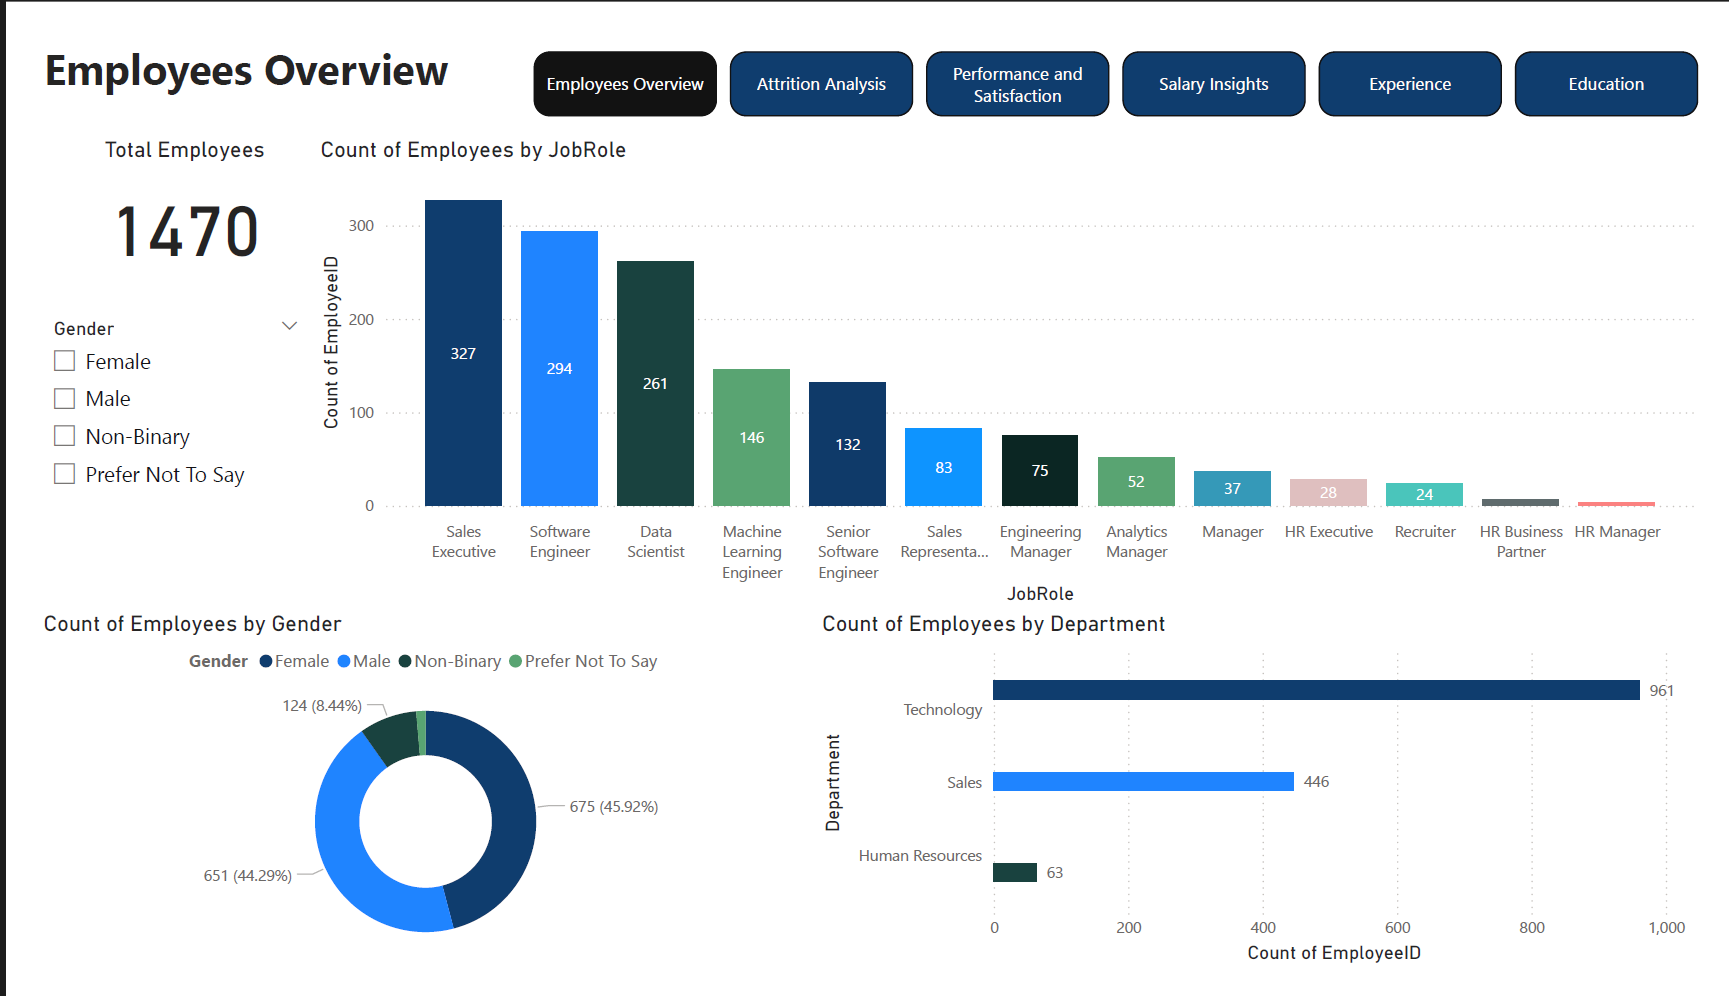

This screenshot's page, from the dashboard's own definition file:
{"tool":"powerbi","page":{"name":"Employees Overview","canvas":[1280,720],"ordinal":0},"visuals":[{"type":"textbox","box":[0,0,1280.3,78.9],"z":0},{"type":"pageNavigator","box":[381.7,14.1,898.6,50.7],"z":1000},{"type":"card","title":"Total Employees","fields":{"Values":["Count(Employee.EmployeeID)"]},"box":[0,78.9,226.8,114.1],"z":2000},{"type":"donutChart","title":"Count of Employees by Gender","fields":{"Y":["CountNonNull(Employee.EmployeeID)"],"Category":["Employee.Gender"]},"box":[0,443.7,598.6,276.1],"z":3000},{"type":"clusteredBarChart","title":"Count of Employees by Department","fields":{"Y":["CountNonNull(Employee.EmployeeID)"],"Category":["Employee.Department"],"Series":["Employee.Department"]},"box":[598.6,443.7,681.7,276.1],"z":4000},{"type":"columnChart","title":"Count of Employees by JobRole","fields":{"Category":["Employee.JobRole"],"Y":["CountNonNull(Employee.EmployeeID)"],"Series":["Employee.JobRole"]},"box":[212.7,78.9,1067.6,364.8],"z":5000},{"type":"slicer","fields":{"Values":["Employee.Gender"]},"box":[0,213.9,212.5,168.1],"z":6000}]}

Visuals, with their boxes in screenshot pixels (x1, y1, x2, y2), scaled from the page's 1280x720 canvas onto the 1729x996 screenshot:
textbox: (0, 0, 1728, 109)
pageNavigator: (516, 20, 1728, 90)
"Total Employees" card: (0, 109, 306, 267)
"Count of Employees by Gender" donutChart: (0, 614, 809, 995)
"Count of Employees by Department" clusteredBarChart: (809, 614, 1728, 995)
"Count of Employees by JobRole" columnChart: (287, 109, 1728, 614)
slicer - Employee.Gender: (0, 296, 287, 528)
